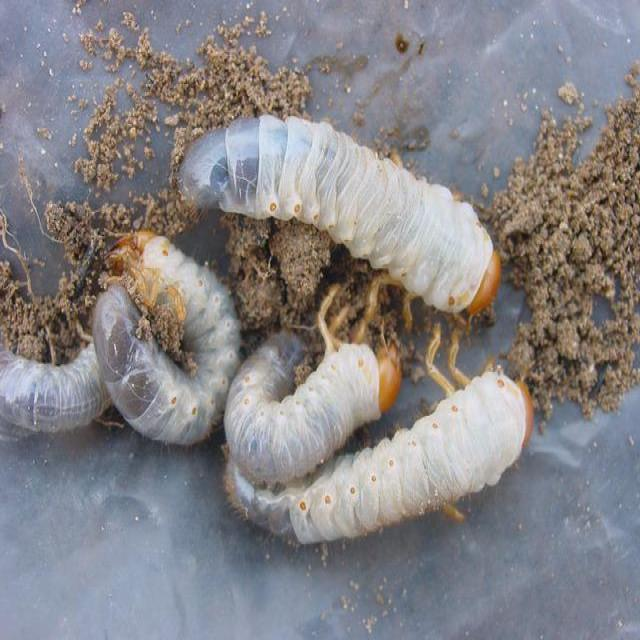Grub-Adult-: (158, 90, 524, 335), (85, 215, 243, 455), (221, 298, 408, 492)
